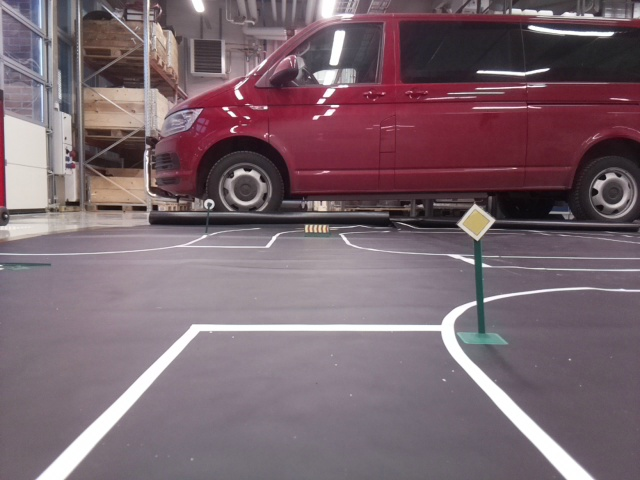Priority: (454, 205, 495, 239)
